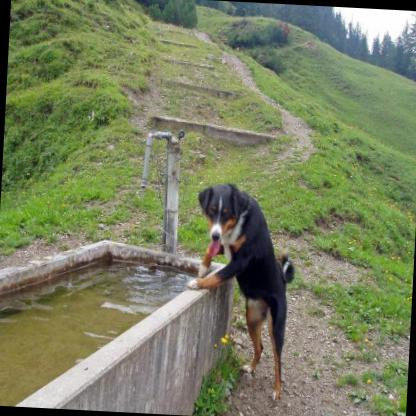EntleBucher: (181, 178, 299, 402)
